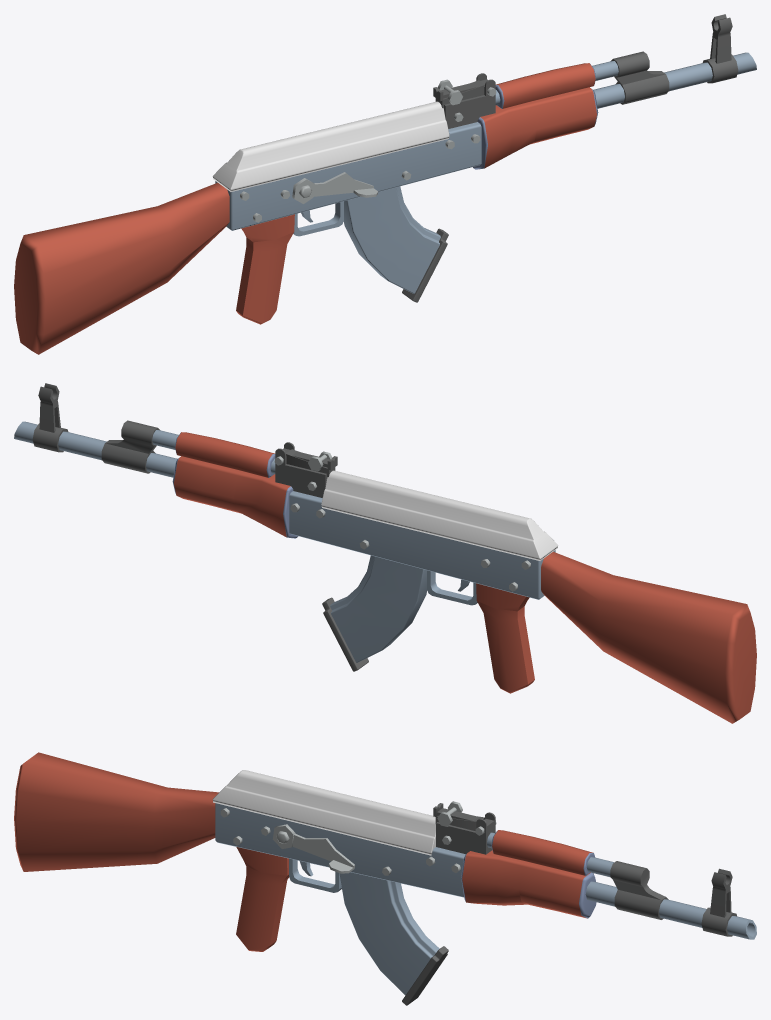
The model's file is rifle_001.glb.
3 renders of one model, top to bottom at view 1: azimuth 30°, elevation 25°; view 2: azimuth 150°, elevation 25°; view 3: azimuth 330°, elevation 25°, orthographic.
Visible parts, largest first — view 1: rifle_001, rifle_magazine_001; view 2: rifle_001, rifle_magazine_001; view 3: rifle_001, rifle_magazine_001.
Part boxes in pixels (x1,y1,x2,y2): rifle_001: (14,14,756,354); rifle_magazine_001: (343,186,448,302); rifle_001: (14,383,756,723); rifle_magazine_001: (322,555,427,671); rifle_001: (14,752,756,951); rifle_magazine_001: (339,872,448,1005).
Bounding box in the file's own units: 1.76 × 0.4744 × 0.1356.
1 material, 1 textured.
